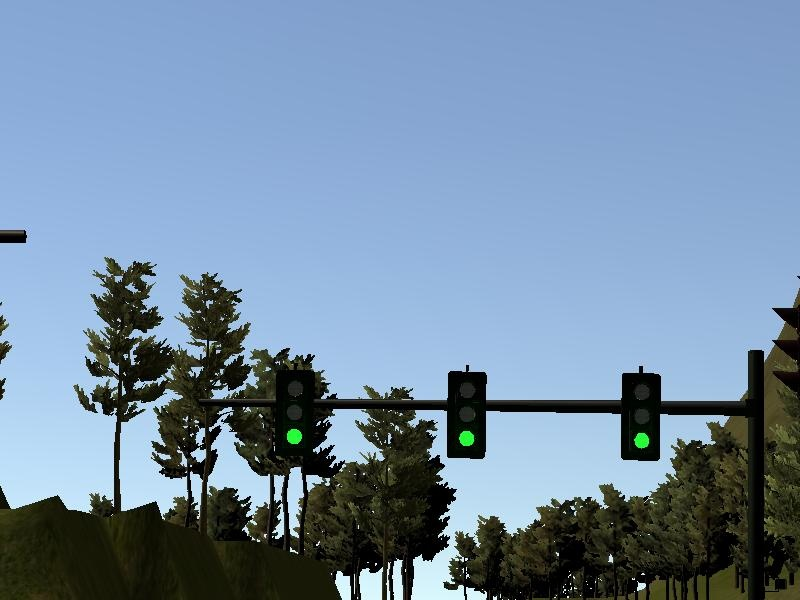GREEN: (621, 373, 661, 461), (447, 373, 487, 459), (276, 369, 314, 454)
